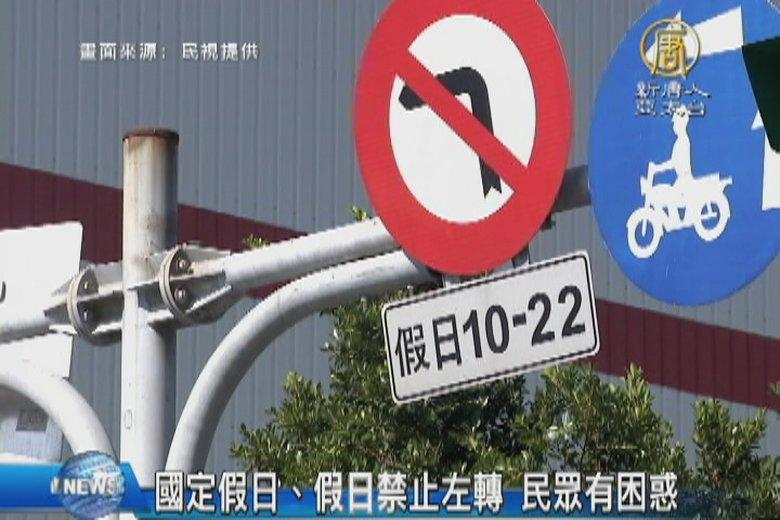no_left_turn: (349, 1, 574, 278)
